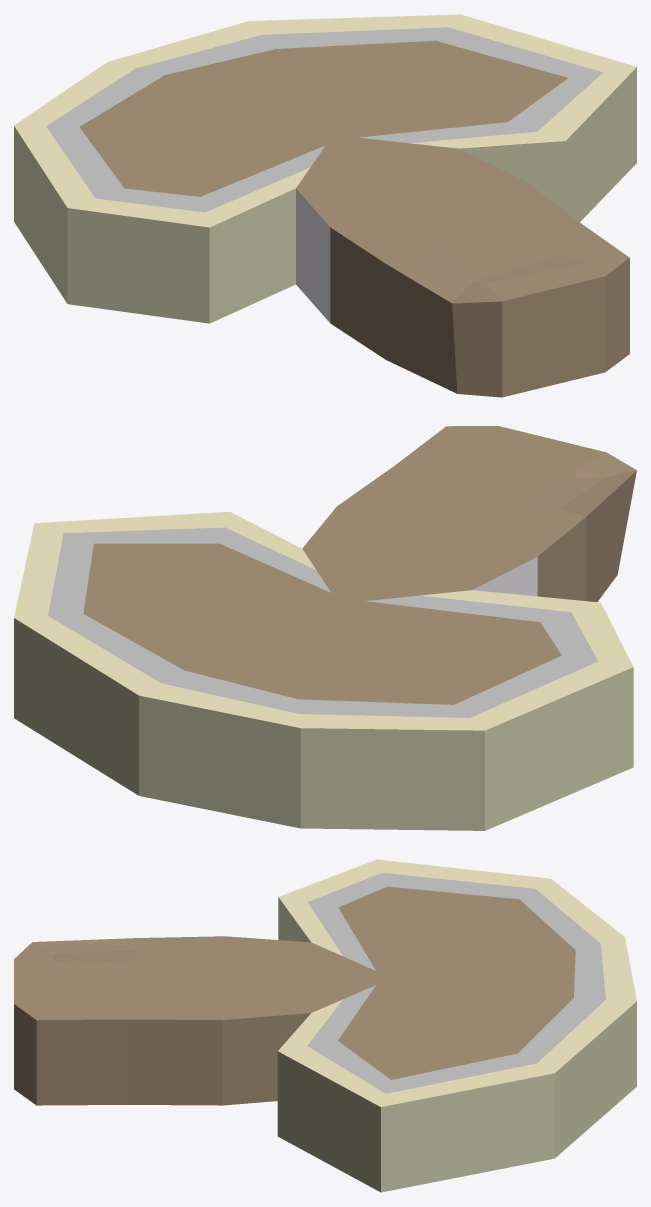
The model's file is Button Mushroom Slice.fbx.
3 renders of one model, top to bottom at view 1: azimuth 30°, elevation 25°; view 2: azimuth 150°, elevation 25°; view 3: azimuth 270°, elevation 25°, orthographic. The views are drawn at different scales.
Parts seen in each view (by area): view 1: Button Mushroom Slice; view 2: Button Mushroom Slice; view 3: Button Mushroom Slice.
Boxes of the visible parts, x1,y1,x2,y2 form: Button Mushroom Slice: (14, 14, 636, 397); Button Mushroom Slice: (14, 426, 636, 830); Button Mushroom Slice: (14, 859, 636, 1192).
Size of the model in its own units: 4.32 by 0.7096 by 4.59.
